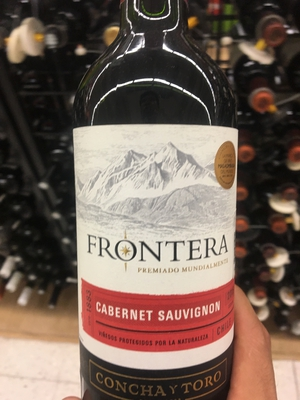frontera cabernet sauvignon: (75, 2, 243, 400)
